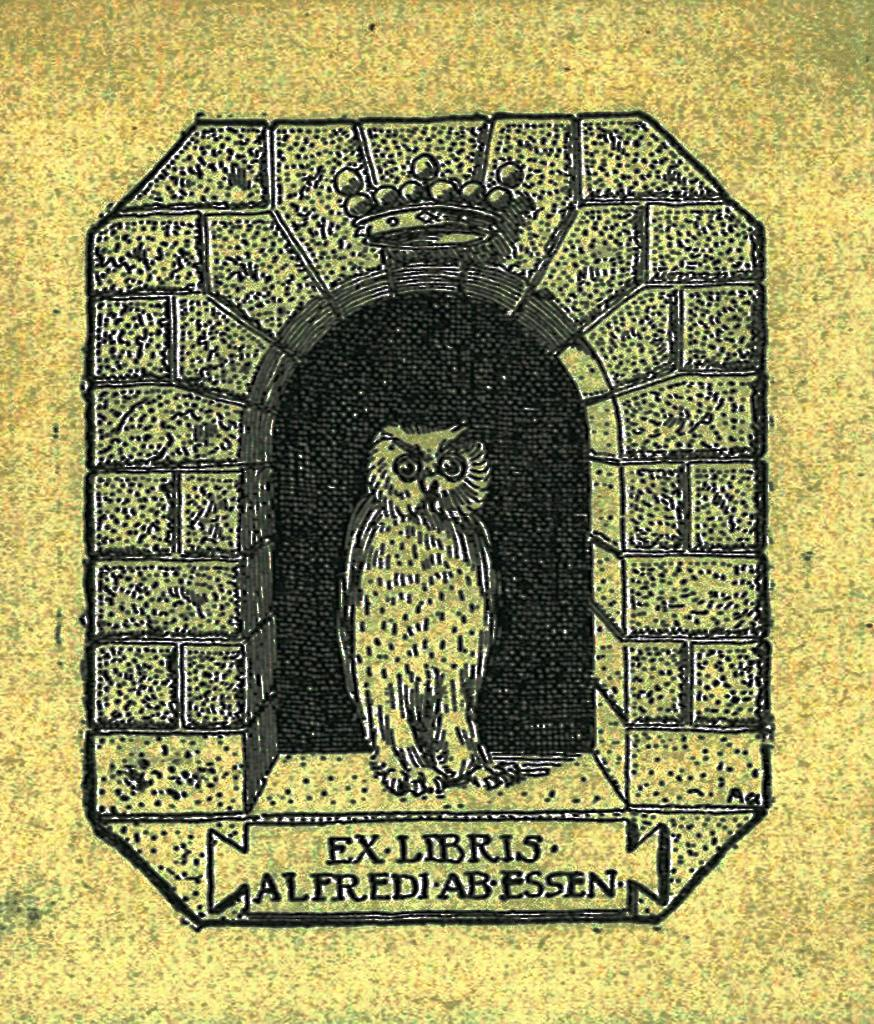Owl: (331, 421, 502, 797)
